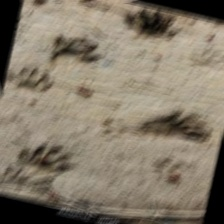raccoon: (3, 133, 79, 189), (44, 26, 103, 82)
